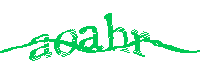a: (79, 24, 102, 54), (30, 32, 52, 61)
h: (103, 12, 131, 56)
o: (52, 26, 77, 59)
r: (131, 27, 151, 58)
